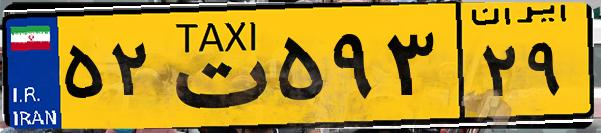2: (475, 38, 525, 113), (110, 28, 158, 98)
3: (385, 28, 445, 110)
5: (270, 28, 330, 110), (57, 26, 110, 100)
9: (330, 28, 385, 110), (525, 38, 570, 115)
ت: (158, 12, 270, 120)
